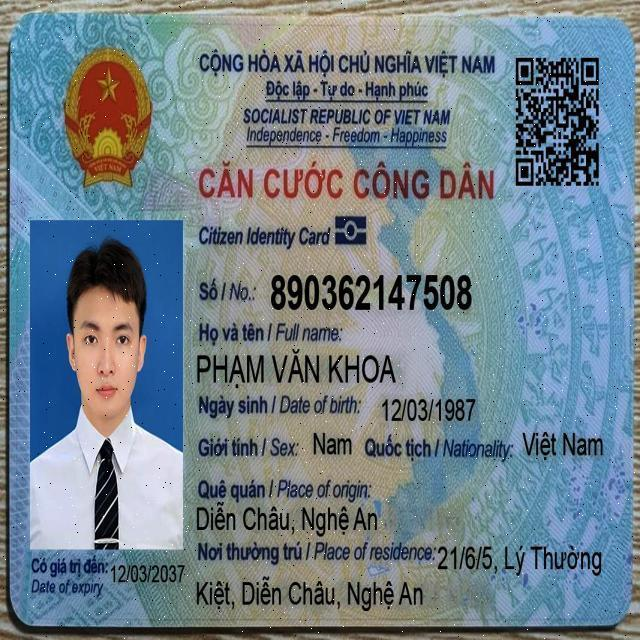current_place: (192, 573, 425, 615), (436, 540, 605, 580)
dob: (378, 392, 479, 426)
expire_date: (107, 558, 187, 588)
gender: (311, 427, 355, 463)
id: (268, 268, 475, 317)
name: (192, 345, 400, 393)
nationality: (519, 427, 606, 465)
origin_place: (194, 498, 382, 539)
